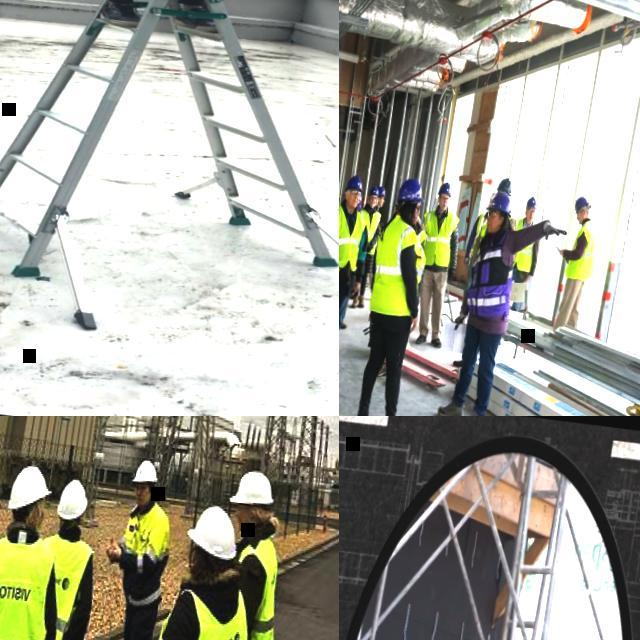Helmet: (190, 500, 248, 564), (226, 463, 274, 516), (4, 459, 51, 513), (52, 473, 98, 526), (390, 172, 428, 205), (128, 454, 164, 488), (488, 168, 516, 198), (561, 186, 595, 210), (486, 189, 514, 216), (434, 179, 460, 200), (347, 168, 365, 196), (369, 170, 384, 197), (523, 189, 539, 214)
Robbery: (448, 182, 532, 412), (227, 453, 298, 640), (0, 456, 64, 640), (373, 172, 420, 415), (116, 456, 178, 640), (171, 486, 240, 640), (50, 475, 100, 640), (553, 188, 604, 332), (415, 174, 451, 352), (342, 160, 367, 335), (518, 193, 538, 314), (366, 168, 387, 233), (478, 166, 520, 193)
